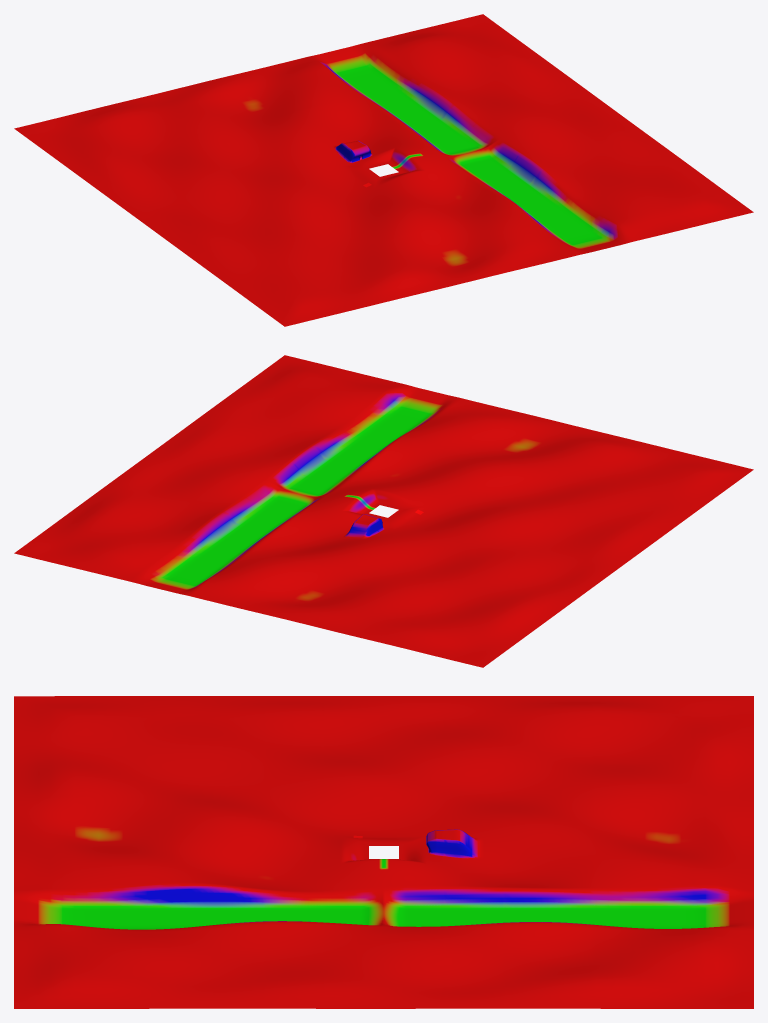
The model's file is placeholder_terrain.glb.
The picture shows the model from 3 angles, top to bottom: view 1: azimuth 30°, elevation 25°; view 2: azimuth 150°, elevation 25°; view 3: azimuth 270°, elevation 25°; orthographic projection. The views are drawn at different scales.
Visible parts, largest first — view 1: placeholder_terrain; view 2: placeholder_terrain; view 3: placeholder_terrain.
Part boxes in pixels (x1,y1,x2,y2): placeholder_terrain: [14, 14, 753, 326]; placeholder_terrain: [14, 355, 753, 667]; placeholder_terrain: [14, 696, 753, 1008].
Size of the model in its own units: 488 by 16.76 by 488.
